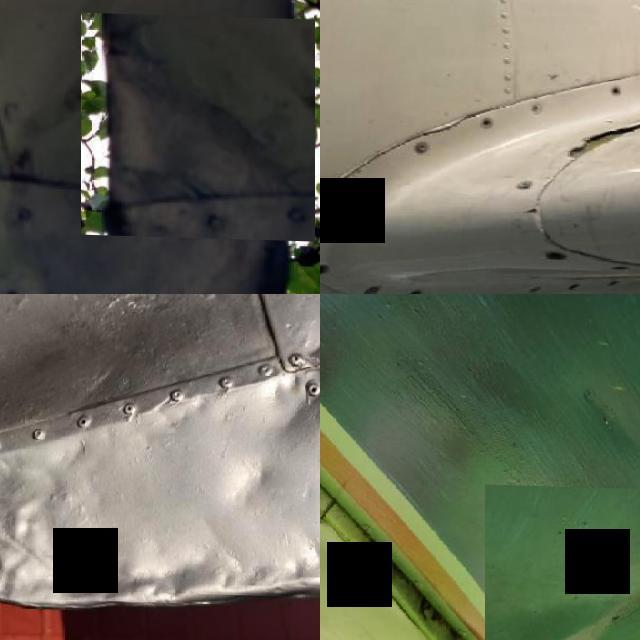Crack: (560, 106, 640, 163), (330, 134, 420, 177), (423, 114, 473, 138), (506, 201, 554, 217), (320, 175, 330, 235)
Dent: (81, 11, 315, 238), (51, 512, 320, 640), (484, 483, 640, 640), (0, 440, 77, 603), (546, 347, 640, 480), (257, 344, 320, 450), (210, 442, 289, 523)
Missing_Fastener: (543, 247, 567, 257), (342, 184, 358, 197), (480, 114, 495, 126), (607, 82, 624, 91), (320, 261, 329, 275), (406, 286, 420, 294)
